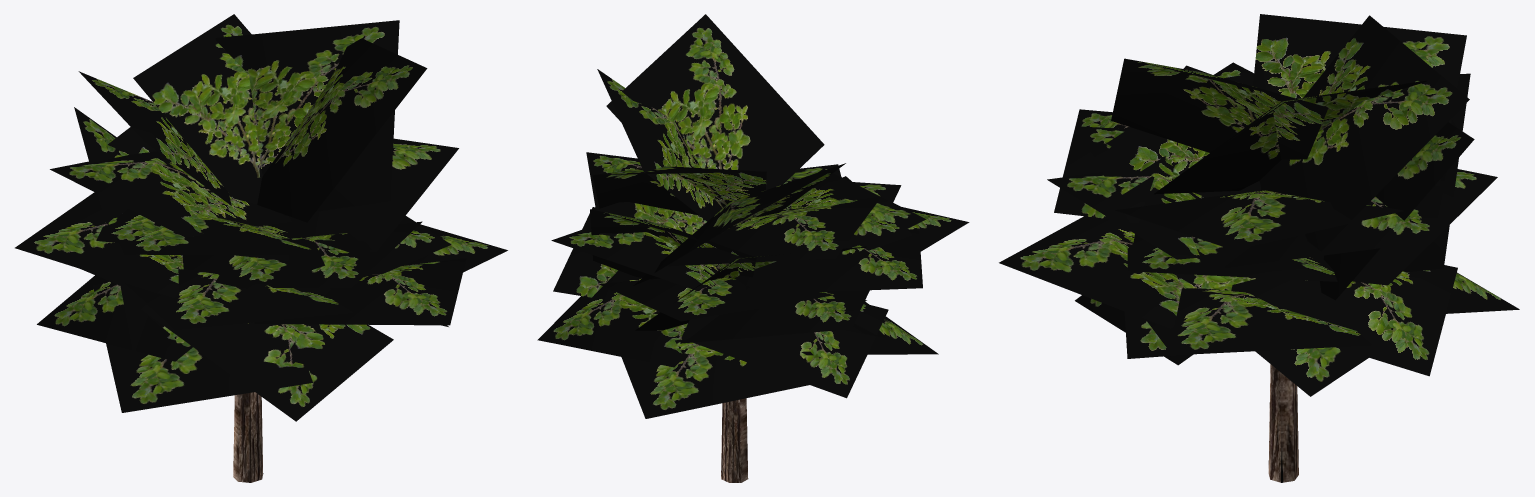
Rendered from baum2.dae.
The picture shows the model from 3 angles, left to right: view 1: azimuth 30°, elevation 25°; view 2: azimuth 150°, elevation 25°; view 3: azimuth 270°, elevation 25°; orthographic projection. The views are drawn at different scales.
Parts seen in each view (by area): view 1: Cylinder_Material.001; view 2: Cylinder_Material.001; view 3: Cylinder_Material.001.
Part boxes in pixels (box(x1,y1,x2,y2)): Cylinder_Material.001: box(15, 14, 507, 482); Cylinder_Material.001: box(537, 14, 969, 482); Cylinder_Material.001: box(999, 14, 1519, 482).
Size of the model in its own units: 5.13 by 4.97 by 4.97.
Materials: 1 (1 with a texture image).
